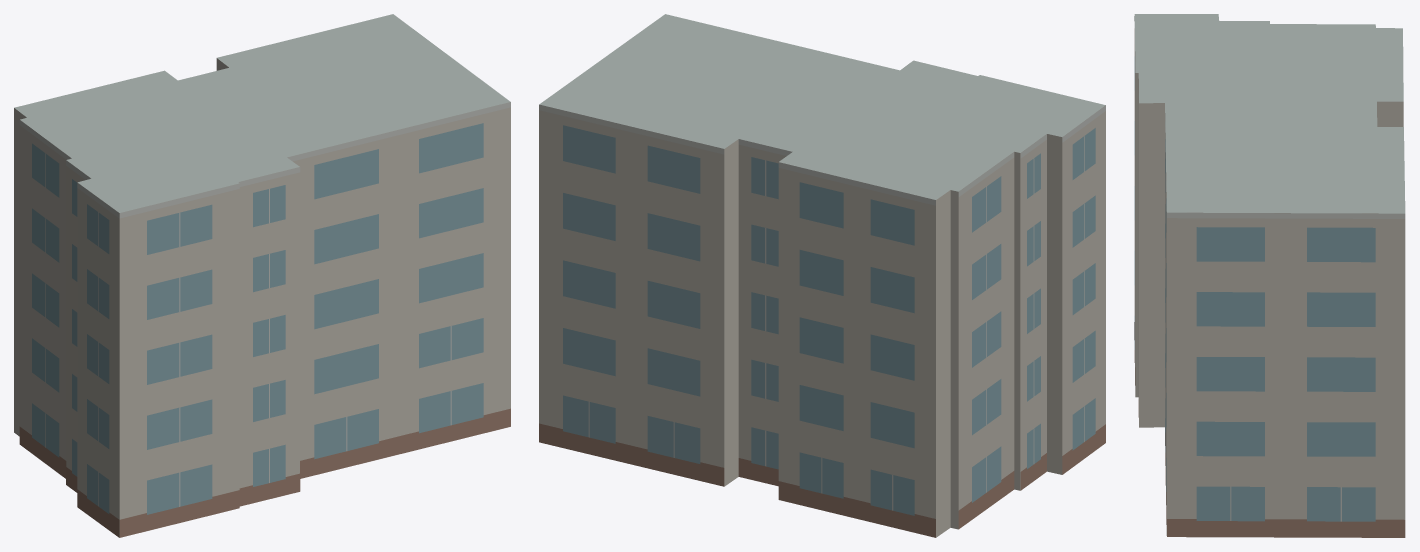
Rendered from survey-upis-32507518.glb.
3 views of the same model, side by side, from view 1: azimuth 30°, elevation 25°; view 2: azimuth 150°, elevation 25°; view 3: azimuth 270°, elevation 25° (orthographic). The views are drawn at different scales.
Parts seen in each view (by area): view 1: survey-upis-32507518.tmp; view 2: survey-upis-32507518.tmp; view 3: survey-upis-32507518.tmp.
Boxes of the visible parts, <box> form: survey-upis-32507518.tmp: <box>14,14,510,537</box>; survey-upis-32507518.tmp: <box>539,14,1105,537</box>; survey-upis-32507518.tmp: <box>1134,14,1405,537</box>.
Bounding box in the file's own units: 19.14 × 14.5 × 10.98.
